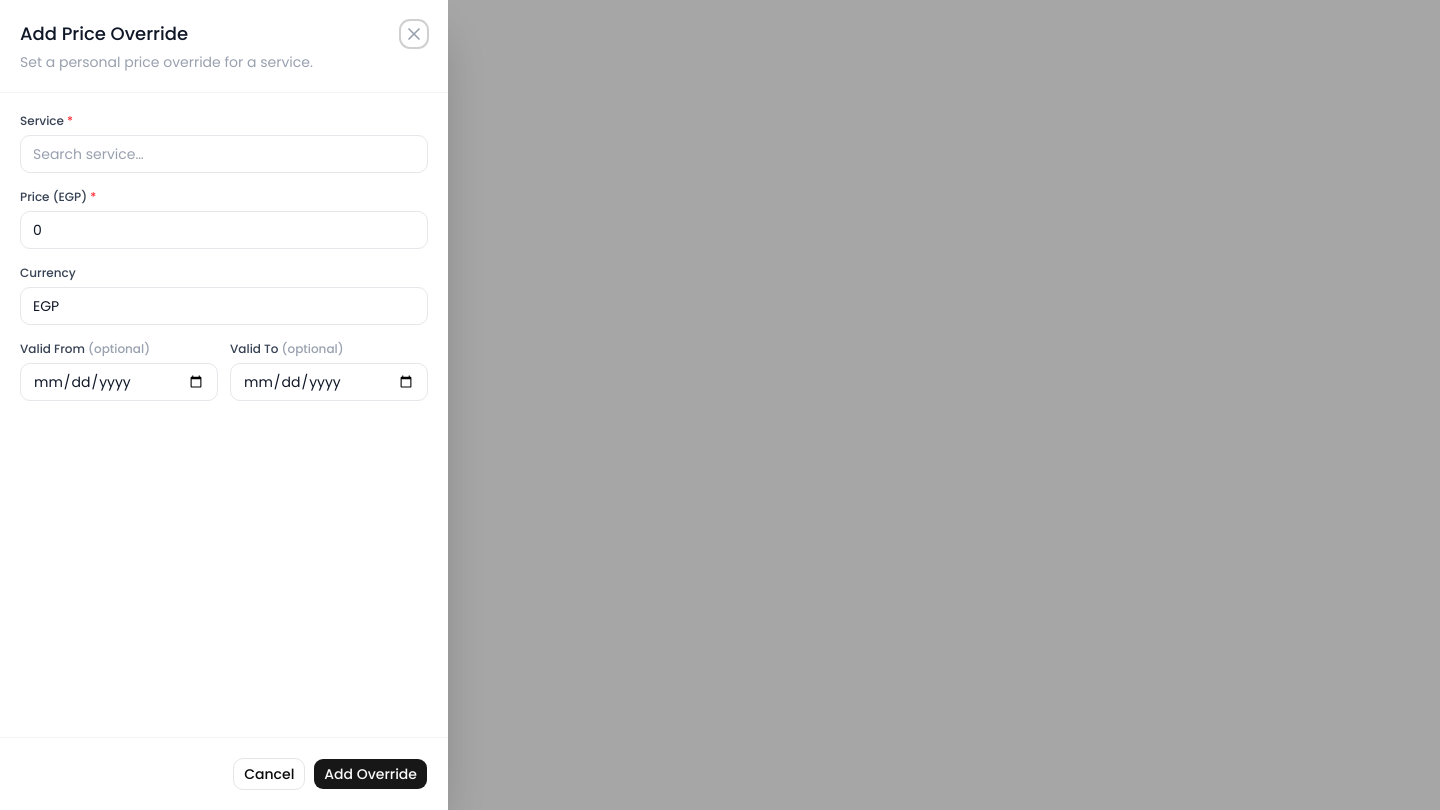
it: ProviderOverrideDrawer › requires a service before submitting
The image size is (1440, 810).
Click the button "Add Override" at [371, 774], box [313,758,428,790]
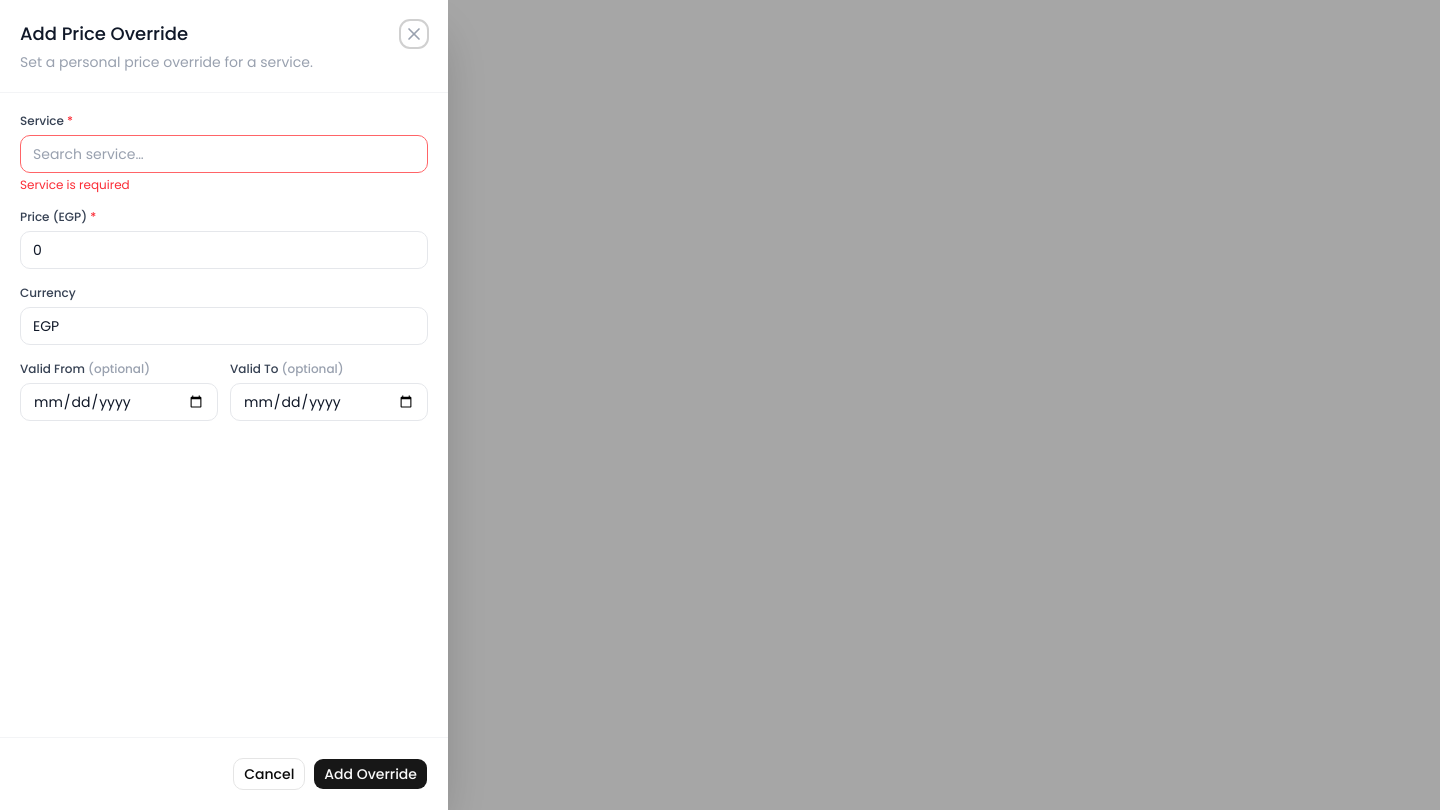
Now the text "Service is required" is shown, box [20,176,130,193]
